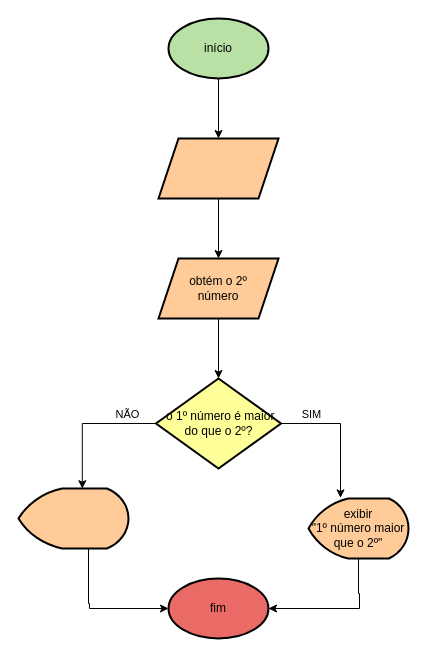
This 426x656 diagram has some shape labels left out. Here are the shapes that lost their labels. From the top down, the centre of each, then its label:
(x=218, y=168): obtém o 1º número
(x=73, y=518): exibir "2º número maior que o 1º"
